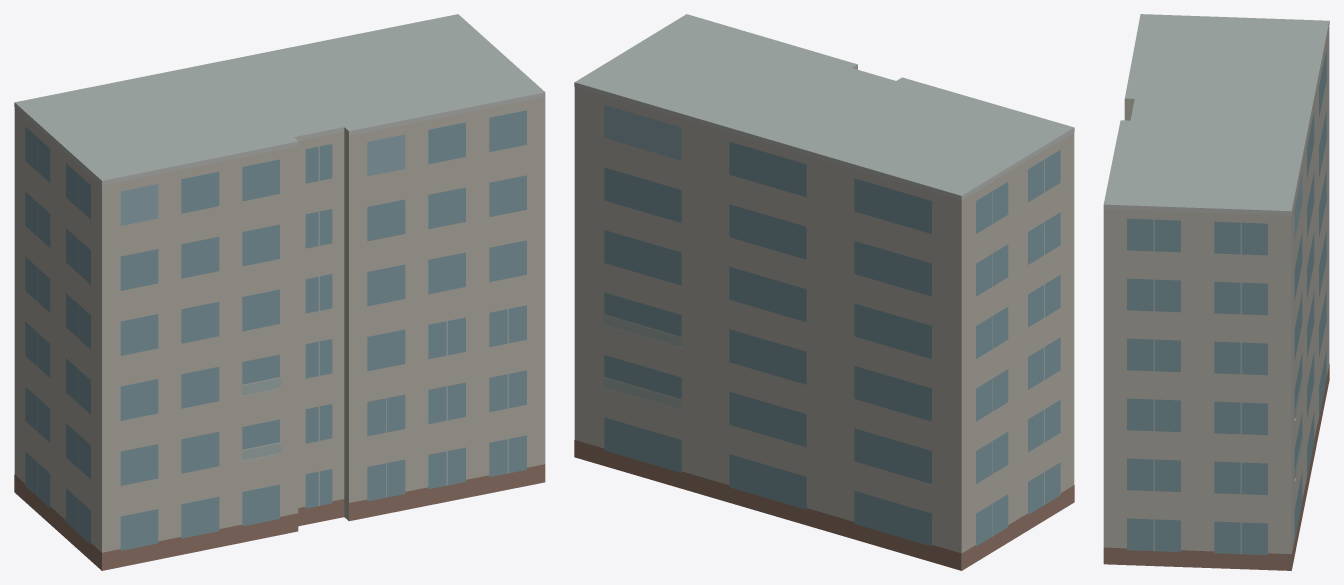
Rendered from survey-upis-32652694.glb.
3 renders of one model, left to right at view 1: azimuth 30°, elevation 25°; view 2: azimuth 150°, elevation 25°; view 3: azimuth 270°, elevation 25°, orthographic. The views are drawn at different scales.
Visible parts, largest first — view 1: survey-upis-32652694.tmp; view 2: survey-upis-32652694.tmp; view 3: survey-upis-32652694.tmp.
Part boxes in pixels (x1,y1,x2,y2): survey-upis-32652694.tmp: (14,14,545,570); survey-upis-32652694.tmp: (574,14,1074,570); survey-upis-32652694.tmp: (1103,14,1329,570).
Size of the model in its own units: 23.4 by 19.9 by 11.33.
